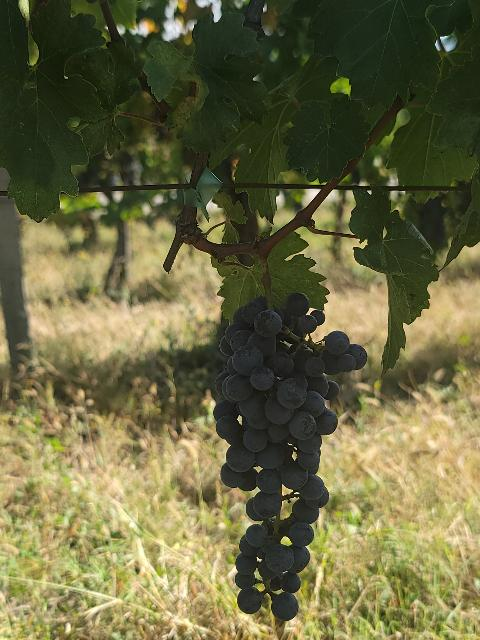grapes: (214, 291, 368, 621)
